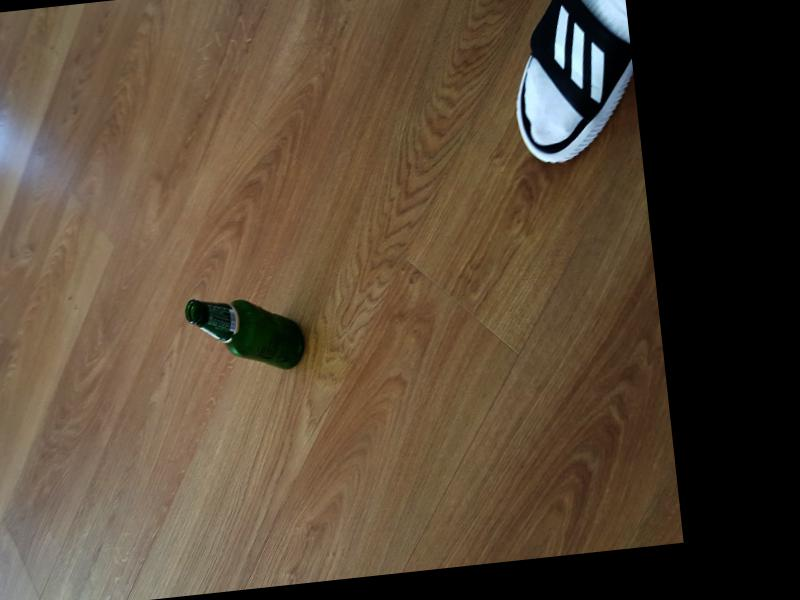Beer: (186, 288, 306, 376)
